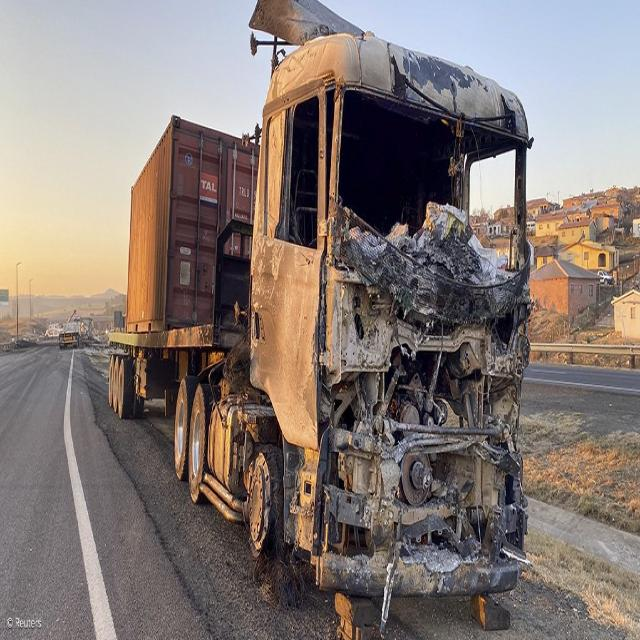Heavy Duty Truck: (108, 30, 543, 609)
